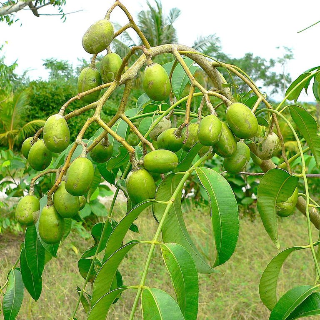coc: (64, 156, 93, 196), (227, 103, 258, 139), (143, 63, 171, 100), (82, 20, 112, 54), (43, 114, 69, 153), (142, 149, 178, 171), (198, 114, 222, 146), (15, 195, 39, 225)
